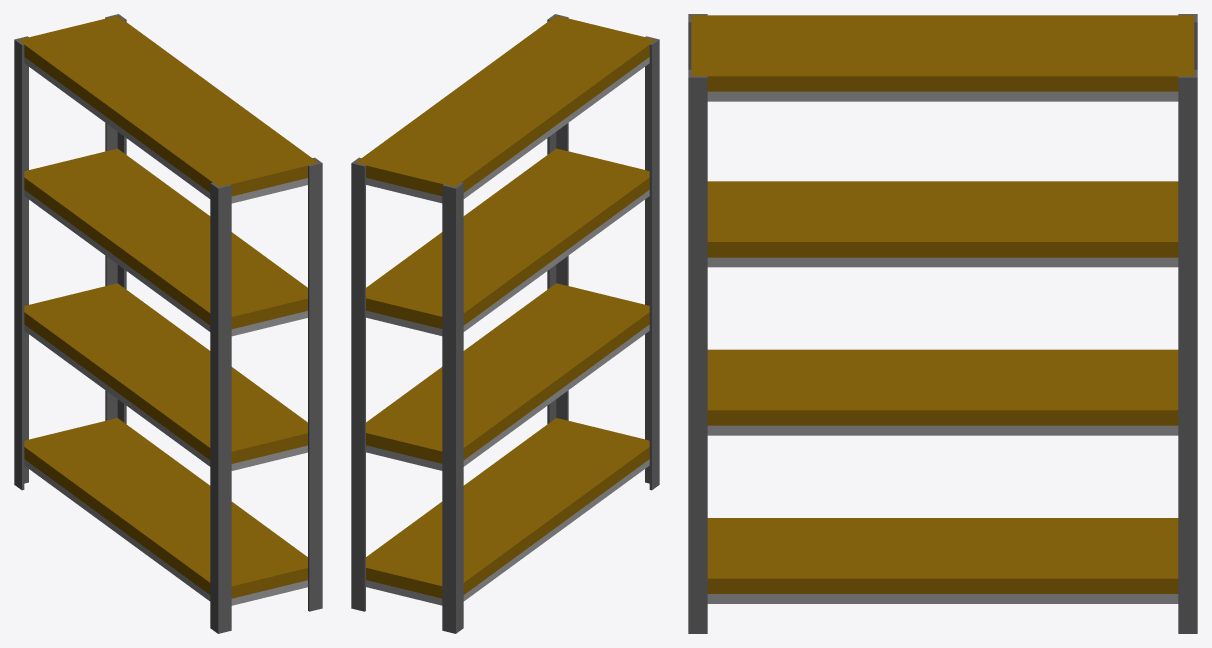
The model's file is SM_StorageShelf.fbx.
3 renders of one model, left to right at view 1: azimuth 30°, elevation 25°; view 2: azimuth 150°, elevation 25°; view 3: azimuth 270°, elevation 25°, orthographic. The views are drawn at different scales.
Parts seen in each view (by area): view 1: pCube32; view 2: pCube32; view 3: pCube32.
Boxes of the visible parts, <box> form: pCube32: <box>14,14,322,633</box>; pCube32: <box>351,14,659,633</box>; pCube32: <box>688,14,1197,633</box>.
Bounding box in the file's own units: 105 × 427 × 355.
